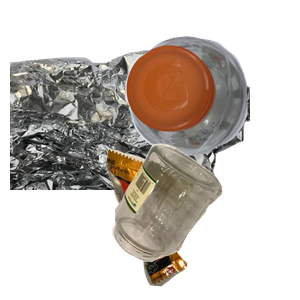glass: (110, 141, 300, 300)
metal: (10, 47, 250, 227)
plastic: (123, 33, 300, 181)
trash: (103, 147, 300, 300)
